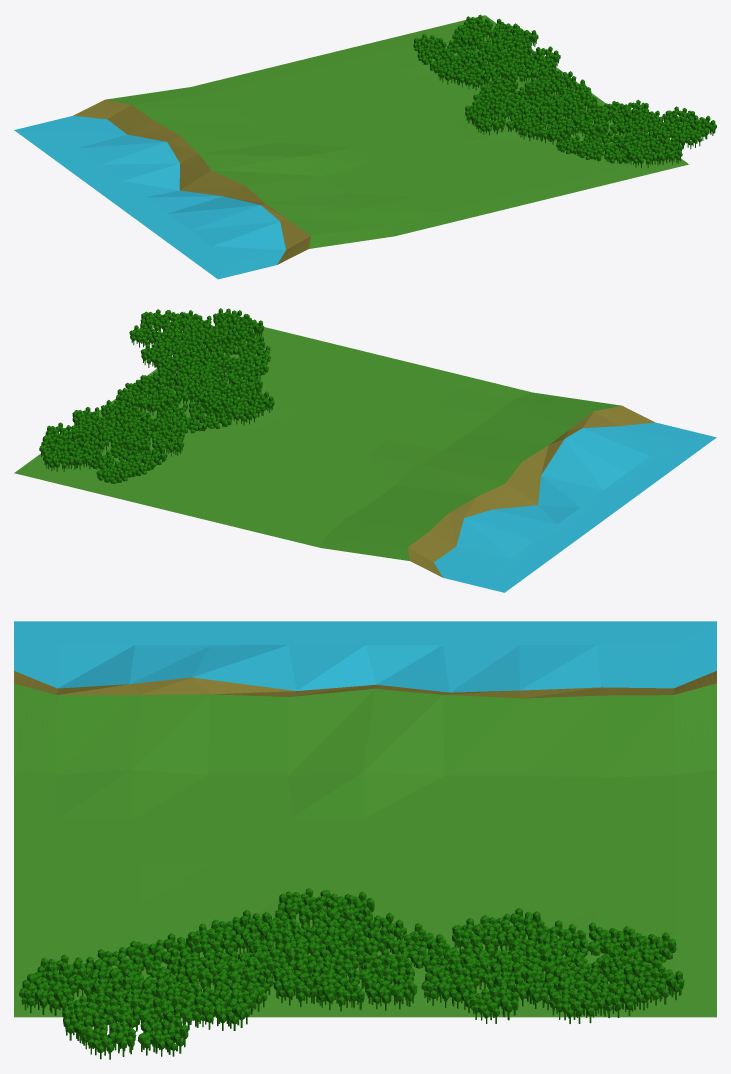
File: background.fbx
3 renders of one model, top to bottom at view 1: azimuth 30°, elevation 25°; view 2: azimuth 150°, elevation 25°; view 3: azimuth 270°, elevation 25°, orthographic. The views are drawn at different scales.
Parts seen in each view (by area): view 1: Cube.022; view 2: Cube.022; view 3: Cube.022.
Part boxes in pixels (x1,y1,x2,y2): Cube.022: (14, 14, 716, 279); Cube.022: (14, 308, 716, 592); Cube.022: (14, 621, 716, 1059).
Size of the model in its own units: 2899 by 117 by 1956.
